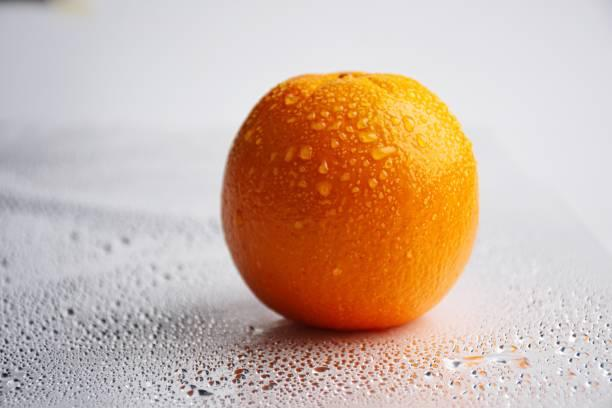orange: (205, 51, 486, 333)
